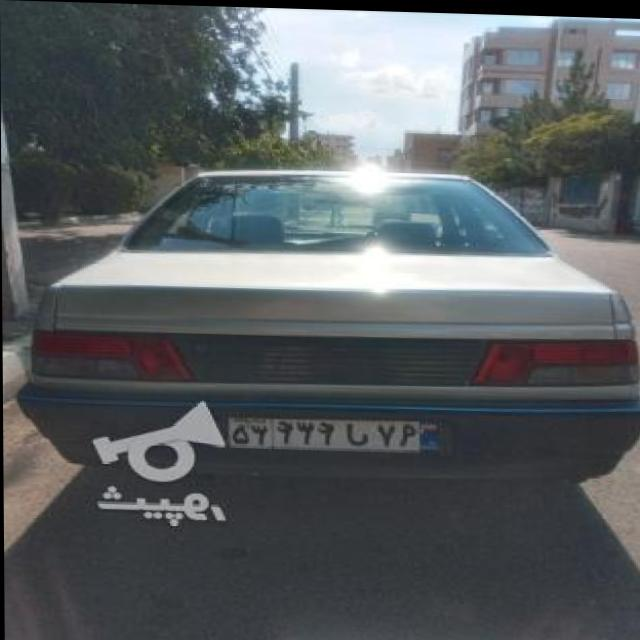licence: (222, 413, 452, 452)
